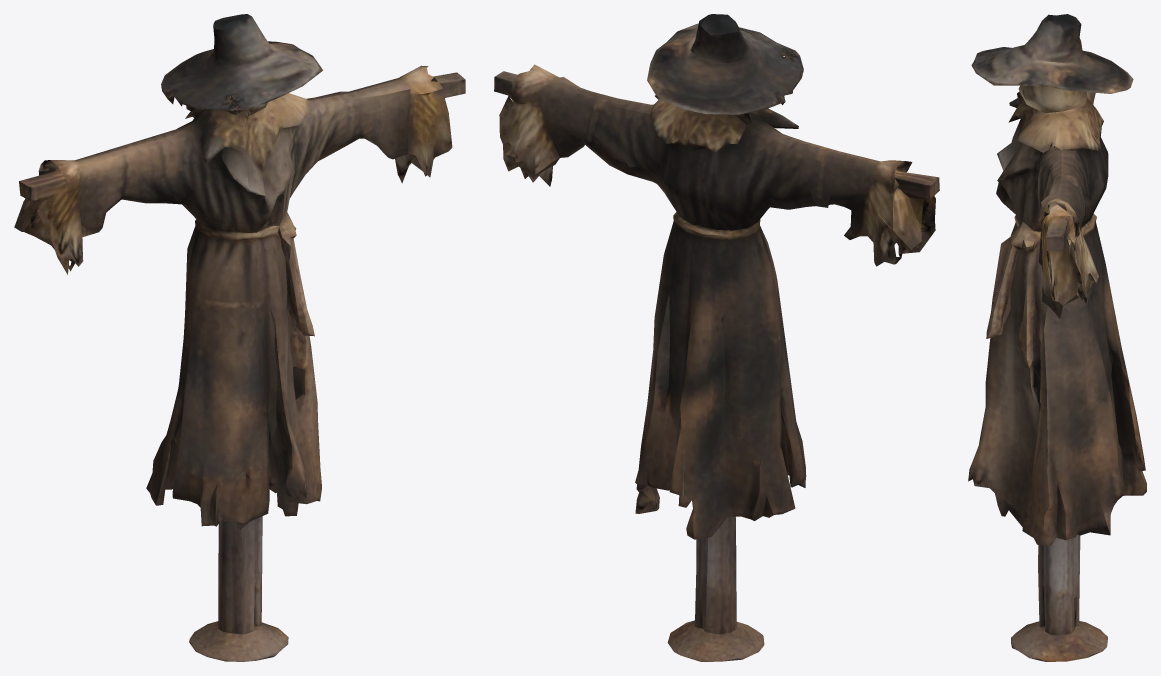
The model's file is prop-scarecrow.glb.
The picture shows the model from 3 angles, left to right: view 1: azimuth 30°, elevation 25°; view 2: azimuth 150°, elevation 25°; view 3: azimuth 270°, elevation 25°; orthographic projection.
Visible parts, largest first — view 1: prop-scarecrow; view 2: prop-scarecrow; view 3: prop-scarecrow.
Part boxes in pixels (box(x1,y1,x2,y2)): prop-scarecrow: box(14, 14, 465, 661); prop-scarecrow: box(494, 14, 939, 661); prop-scarecrow: box(968, 14, 1146, 661).
Bounding box in the file's own units: 2.04 × 2.79 × 0.7223.
Materials: 1 (1 with a texture image).
